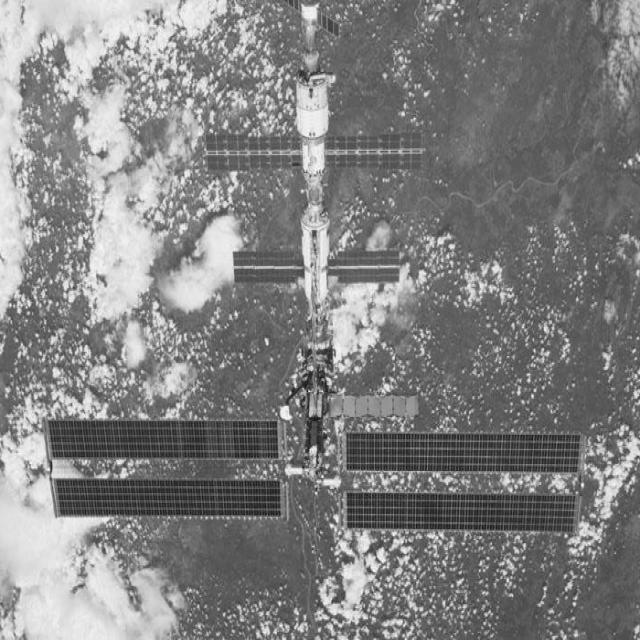medium_debris: (44, 0, 422, 526), (339, 431, 584, 535)
